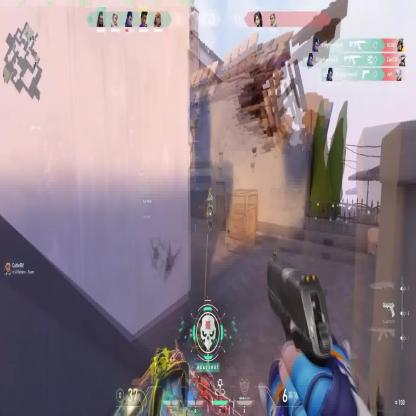enemy: (205, 188, 213, 231)
enemy_head: (208, 188, 211, 195)
